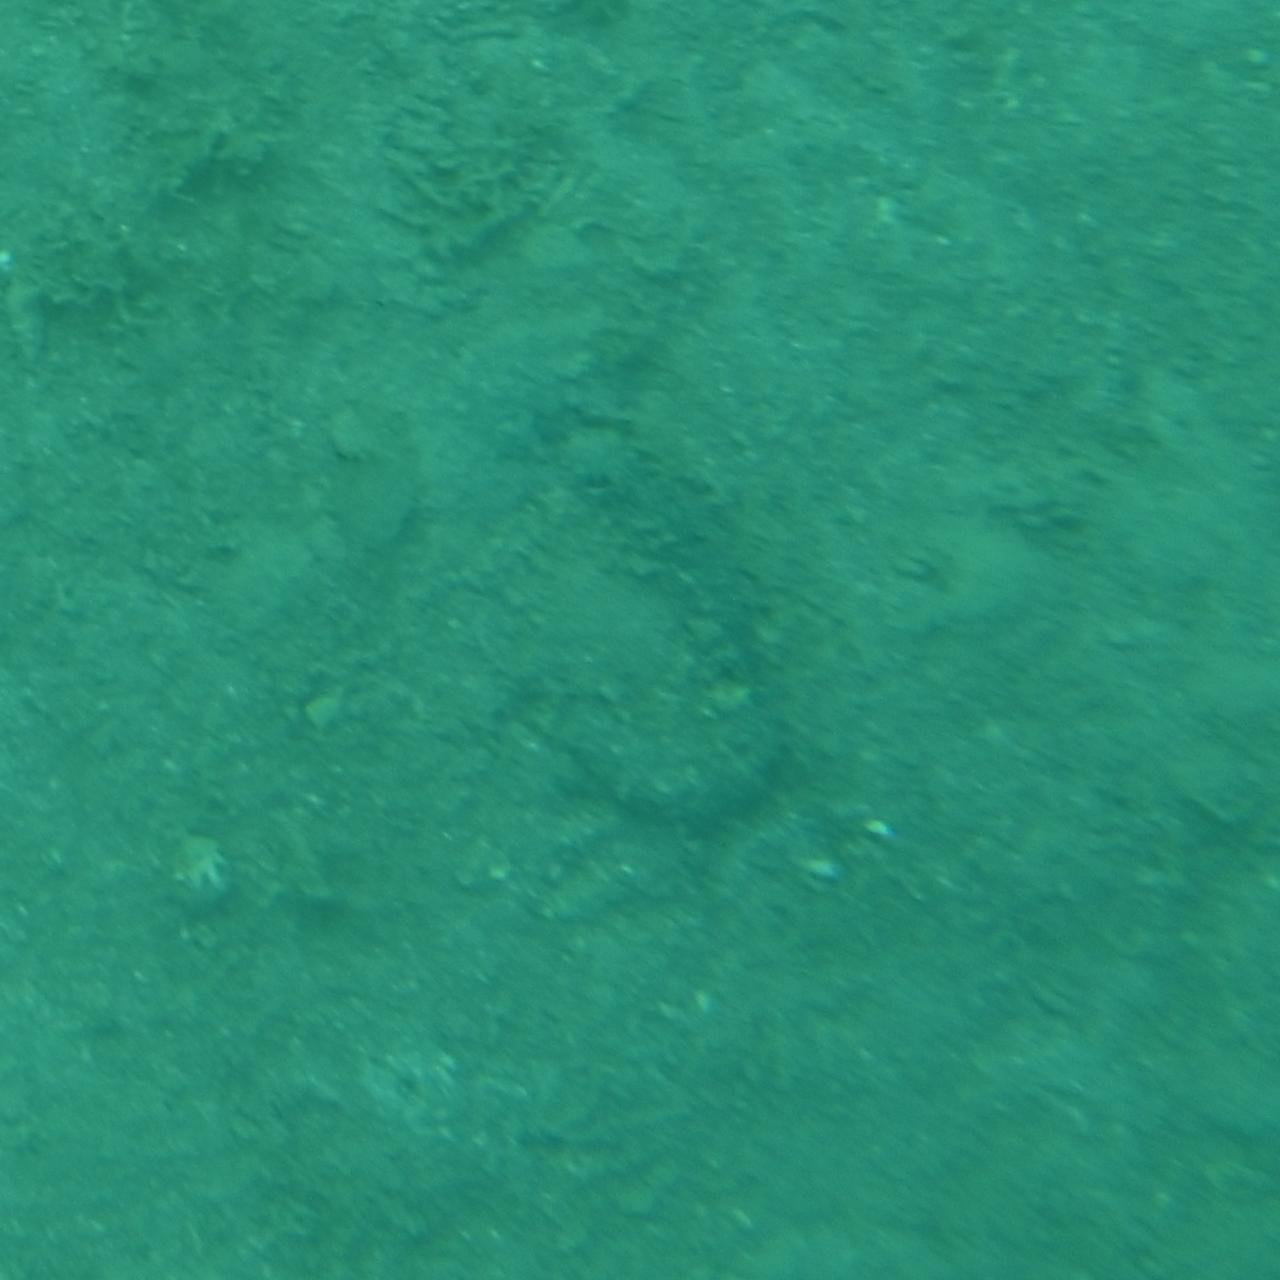Holothuria tubulosa: (466, 408, 814, 872)
